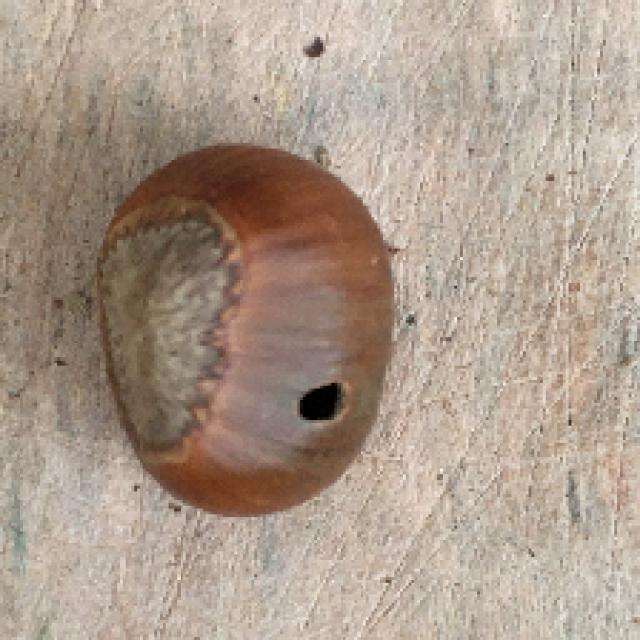damagedHazelnut: (85, 137, 398, 520)
